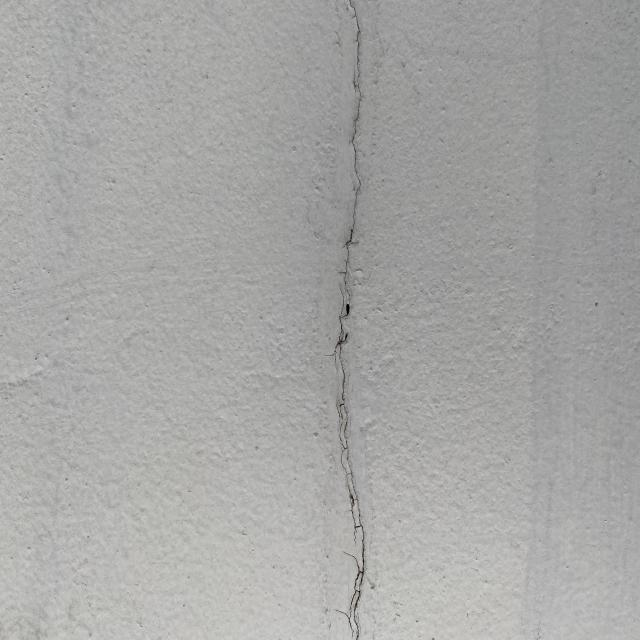SurfaceCrack: (283, 1, 410, 640)
